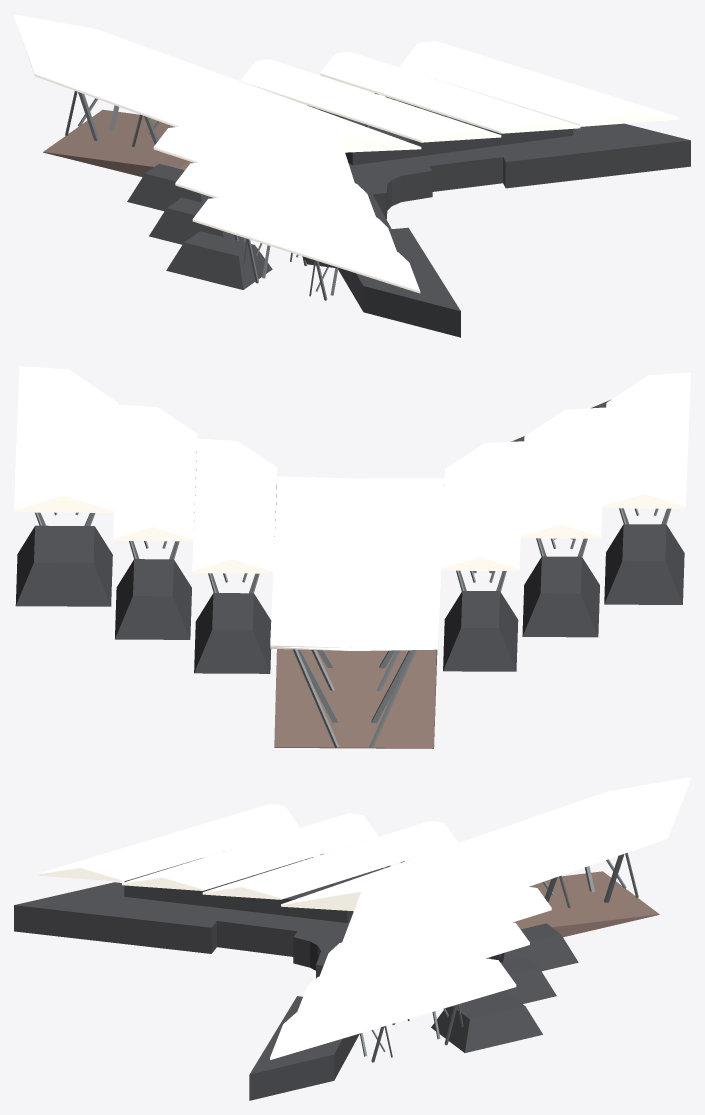
The model's file is mex_harp_helu.glb.
The picture shows the model from 3 angles, top to bottom: view 1: azimuth 30°, elevation 25°; view 2: azimuth 150°, elevation 25°; view 3: azimuth 270°, elevation 25°; orthographic projection. The views are drawn at different scales.
Parts seen in each view (by area): view 1: mexico-city-estadio-alfredo-harp-helu; view 2: mexico-city-estadio-alfredo-harp-helu; view 3: mexico-city-estadio-alfredo-harp-helu.
Part boxes in pixels (x1,y1,x2,y2): mexico-city-estadio-alfredo-harp-helu: [14, 14, 690, 337]; mexico-city-estadio-alfredo-harp-helu: [14, 366, 690, 748]; mexico-city-estadio-alfredo-harp-helu: [14, 777, 690, 1100].
Size of the model in its own units: 199 by 39.04 by 234.
